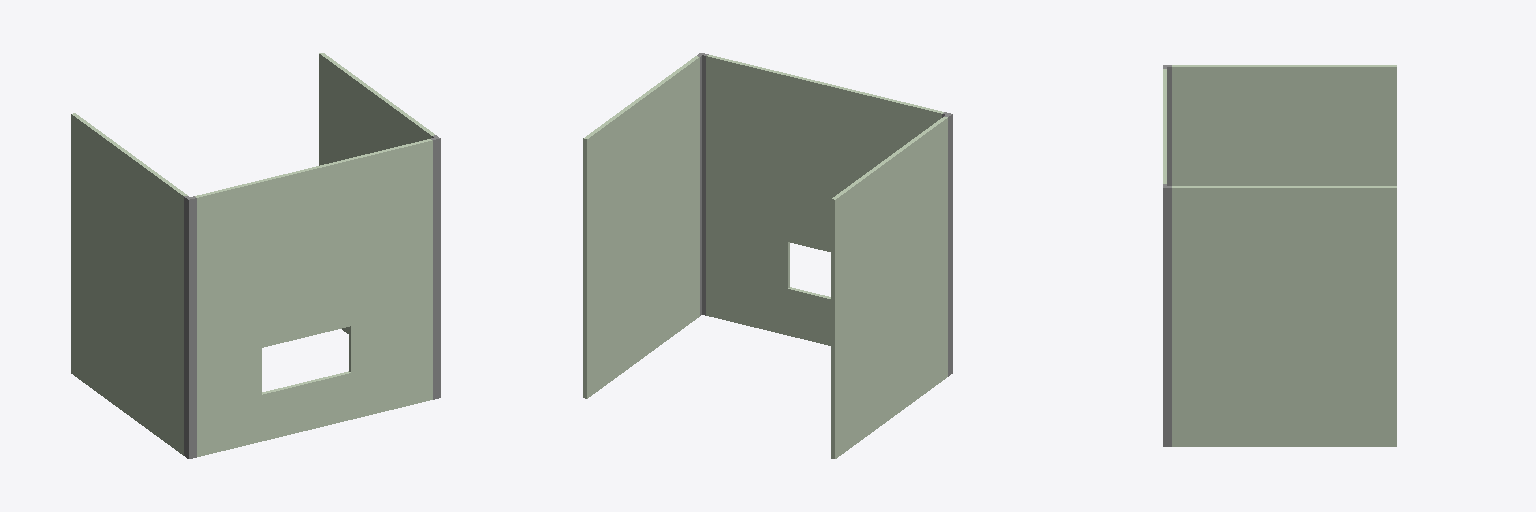
3 views of the same model, side by side, from view 1: azimuth 30°, elevation 25°; view 2: azimuth 150°, elevation 25°; view 3: azimuth 270°, elevation 25° (orthographic).
Parts seen in each view (by area): view 1: Walls; view 2: Walls; view 3: Walls.
Part boxes in pixels (x1,y1,x2,y2): Walls: (71,53,440,458); Walls: (583,53,952,458); Walls: (1163,65,1396,446).
Bounding box in the file's own units: 6.2 × 6.1 × 5.
1 materials, 1 textured.